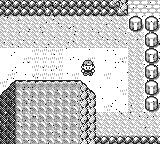main: (81, 60, 95, 76)
no-caminable: (1, 81, 96, 143), (127, 16, 160, 112), (0, 0, 128, 16)
salto: (97, 136, 160, 143)
